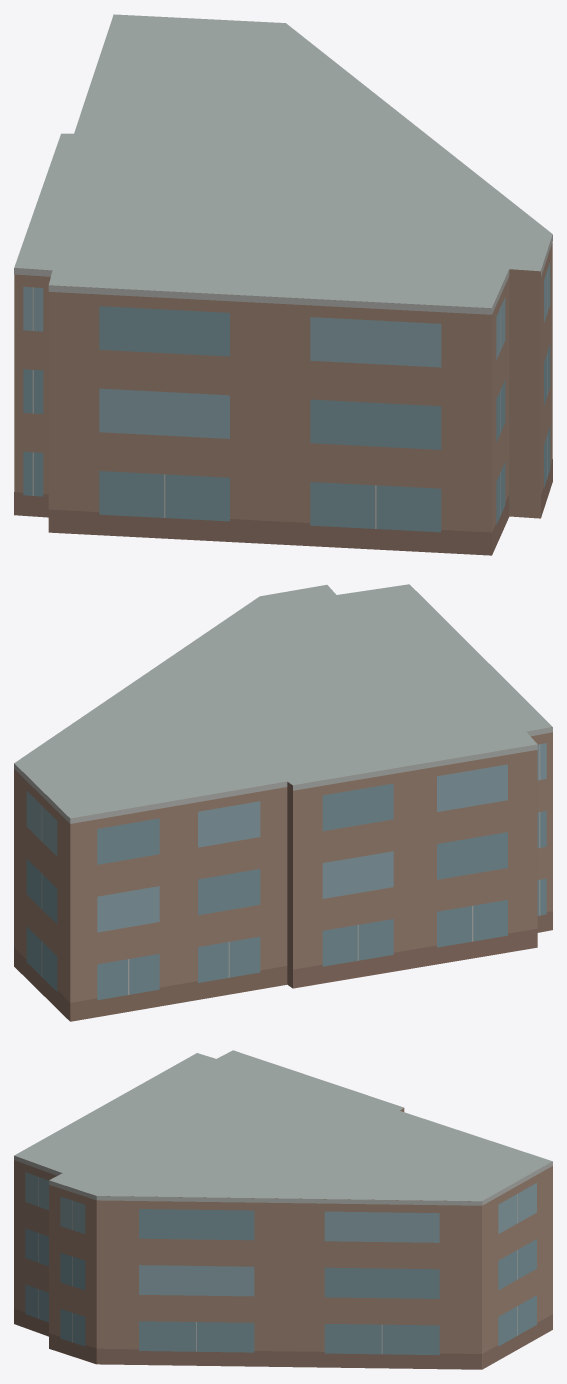
The model's file is survey-upis-32910098.glb.
3 views of the same model, one above another, from view 1: azimuth 30°, elevation 25°; view 2: azimuth 150°, elevation 25°; view 3: azimuth 270°, elevation 25° (orthographic). The views are drawn at different scales.
Visible parts, largest first — view 1: survey-upis-32910098.tmp; view 2: survey-upis-32910098.tmp; view 3: survey-upis-32910098.tmp.
Part boxes in pixels (bbox=[...]): survey-upis-32910098.tmp: bbox=[14, 14, 552, 555]; survey-upis-32910098.tmp: bbox=[14, 584, 552, 1021]; survey-upis-32910098.tmp: bbox=[14, 1050, 552, 1369].
Bounding box in the file's own units: 17.61 × 9.15 × 26.54.
